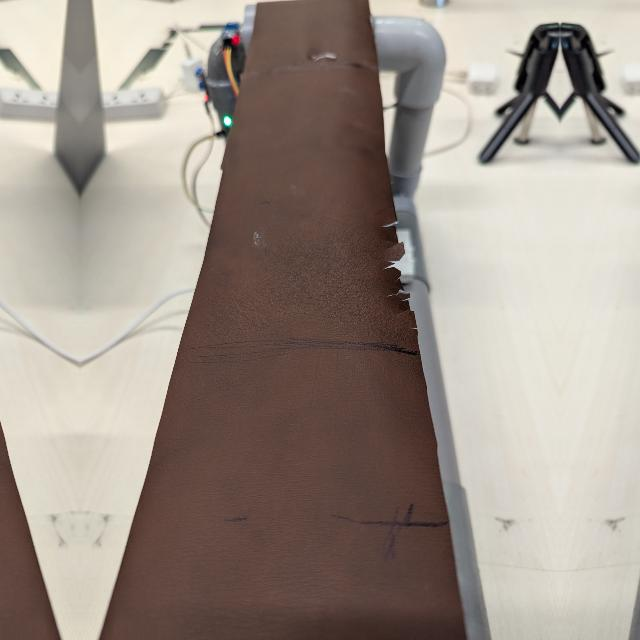edge_damage: (382, 216, 417, 337)
joint_damage: (303, 49, 343, 77)
